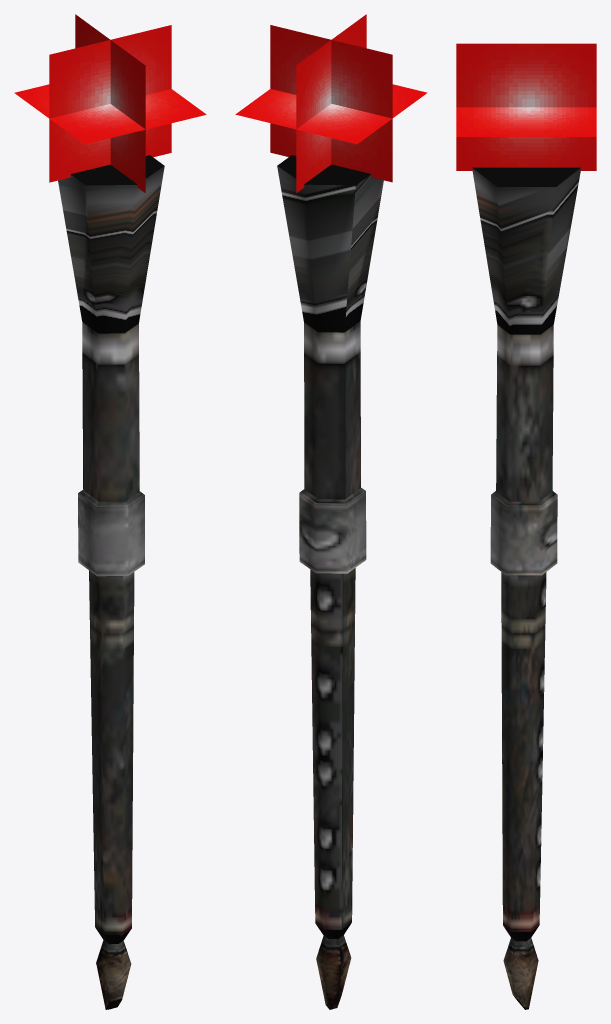
Rendered from ply_all_construction_beacon_l1.fbx.
3 views of the same model, side by side, from view 1: azimuth 30°, elevation 25°; view 2: azimuth 150°, elevation 25°; view 3: azimuth 270°, elevation 25° (orthographic).
Visible parts, largest first — view 1: mesh_node; view 2: mesh_node; view 3: mesh_node.
Boxes of the visible parts, box(x1,y1,x2,y2) form: mesh_node: box(14, 14, 206, 1009); mesh_node: box(235, 14, 427, 1009); mesh_node: box(456, 43, 596, 1009).
Bounding box in the file's own units: 0.4664 × 3.54 × 0.4664.
Materials: 2 (2 with a texture image).
